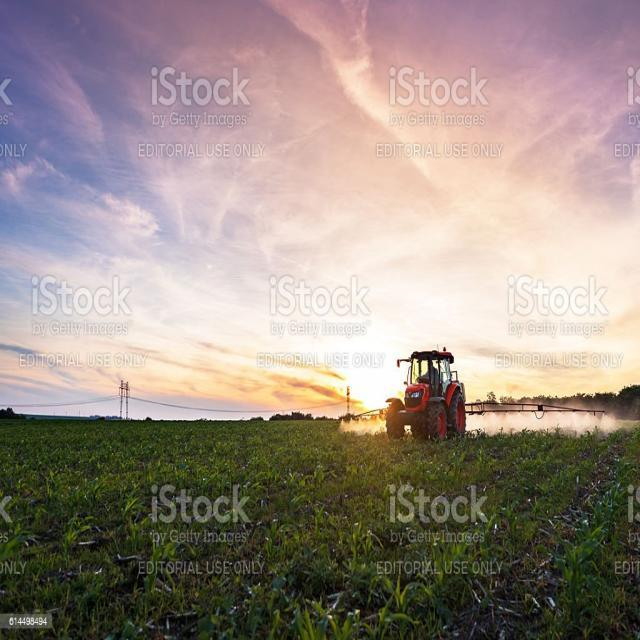Tratores - v5 YOLO V8L 2024-11-13: (374, 326, 477, 455)
